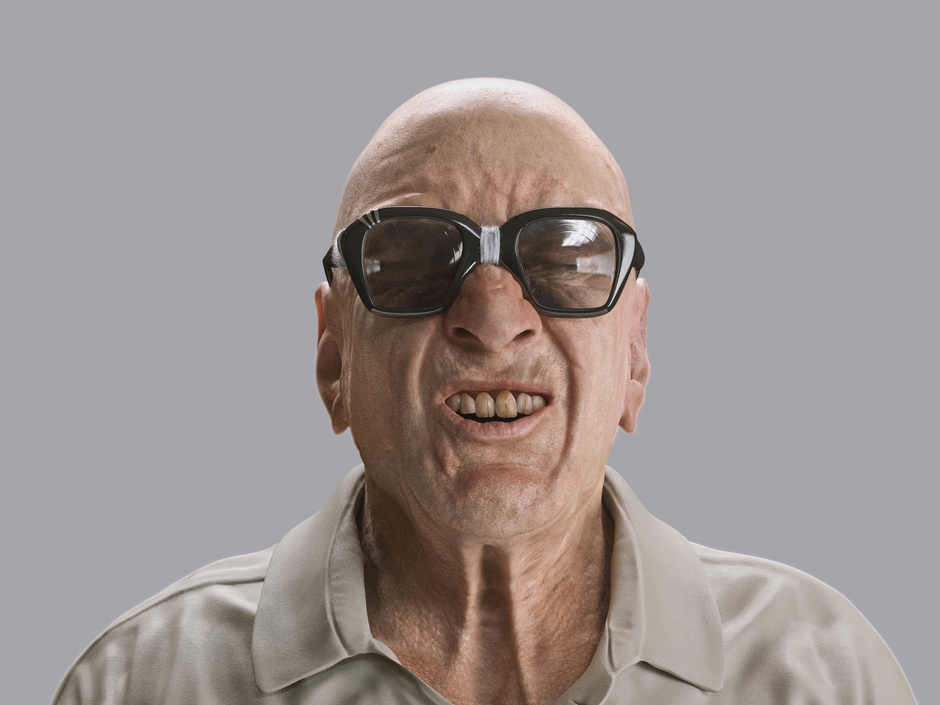angry: (322, 168, 656, 560)
